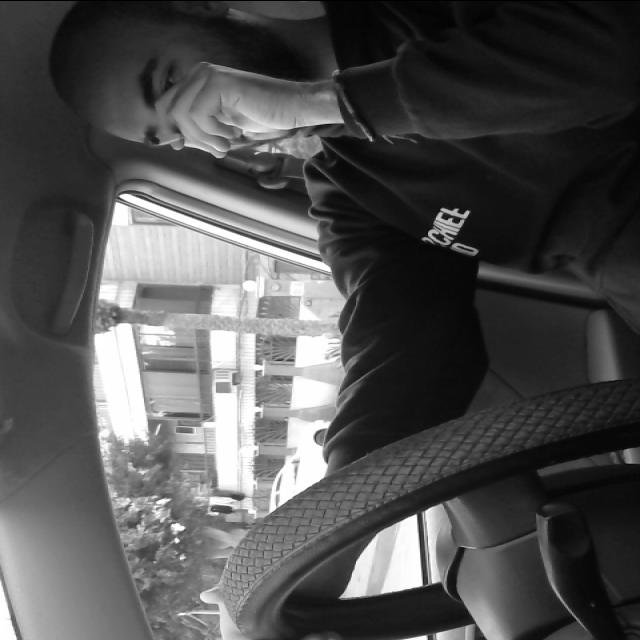smoking: (145, 129, 209, 147)
